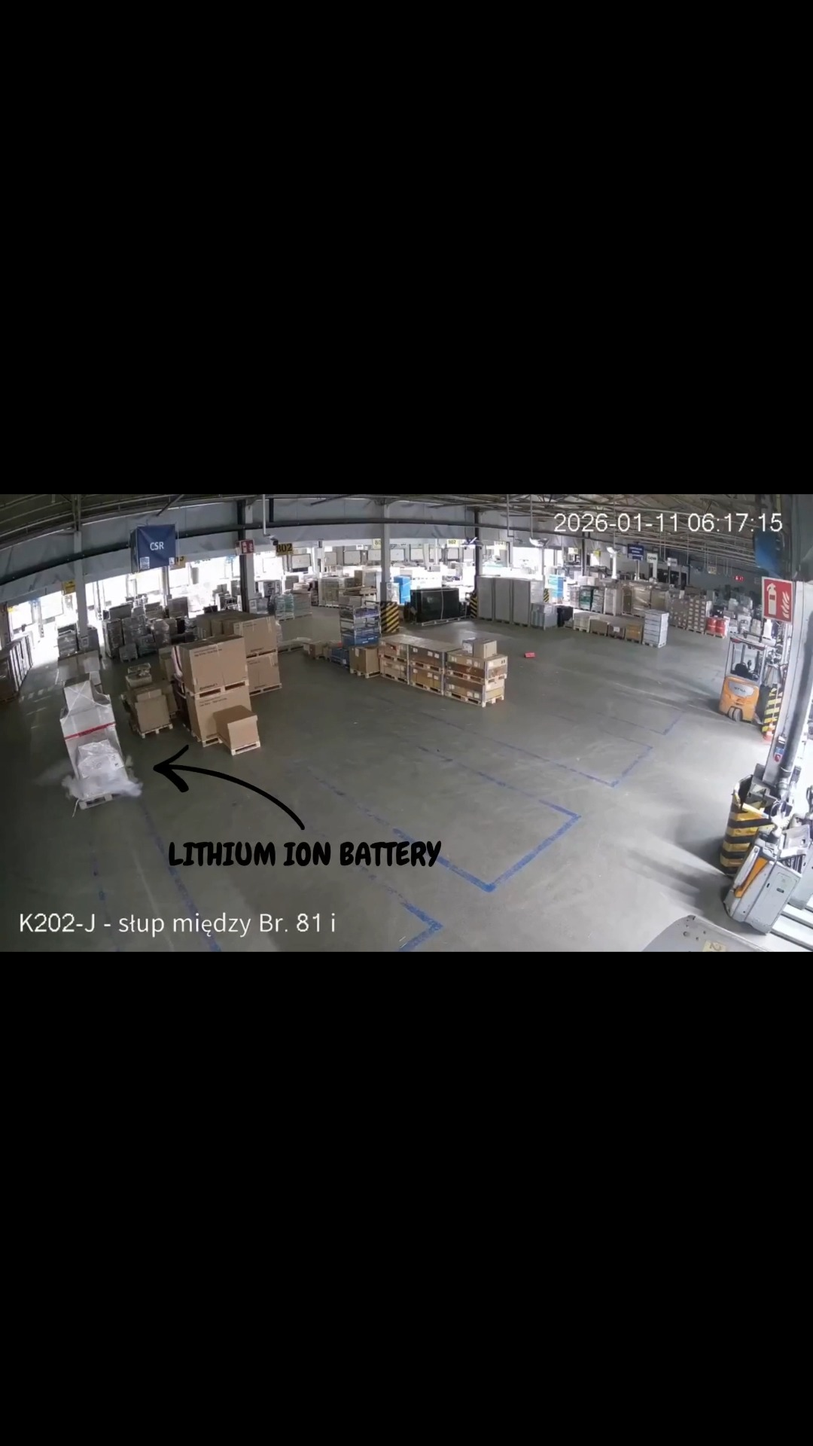smoke: (72, 739, 138, 808)
